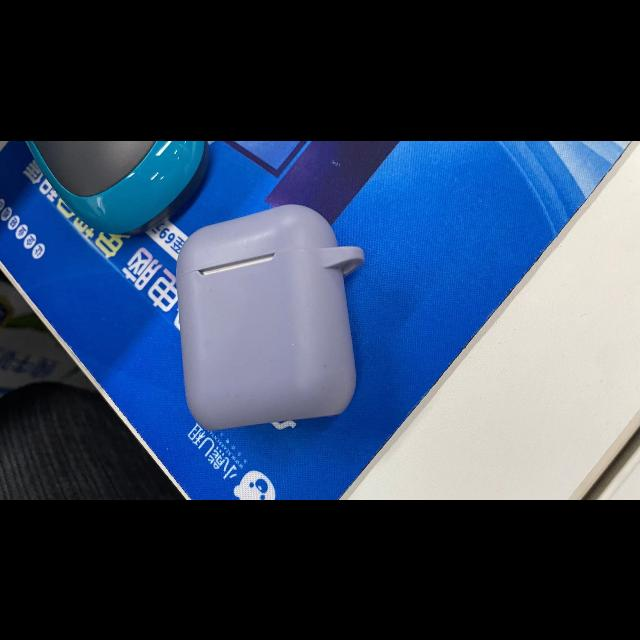airpods: (175, 203, 365, 430)
